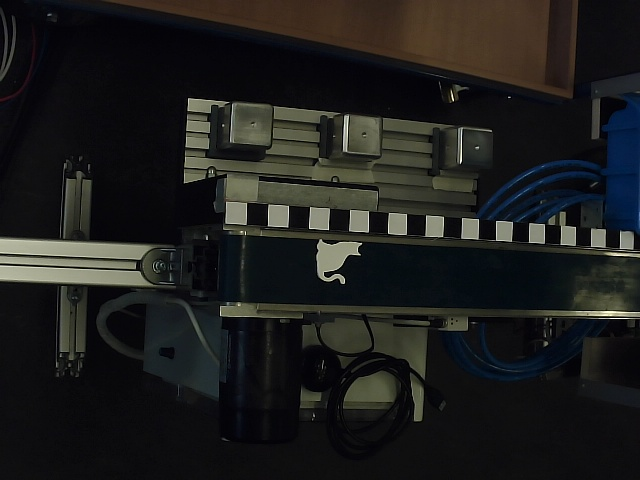cat: (316, 238, 362, 285)
